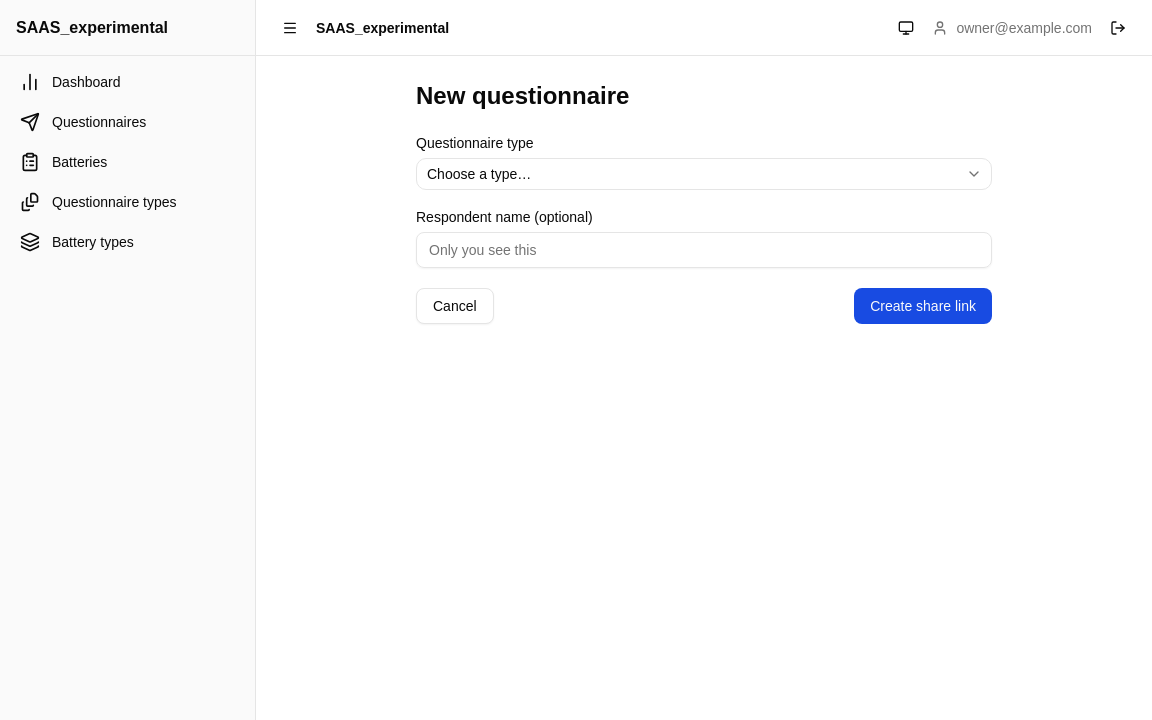
Test case: /questionnaires/new › requires a type
Click the button "Create share link" at (923, 306), box 854,288 -> 992,324
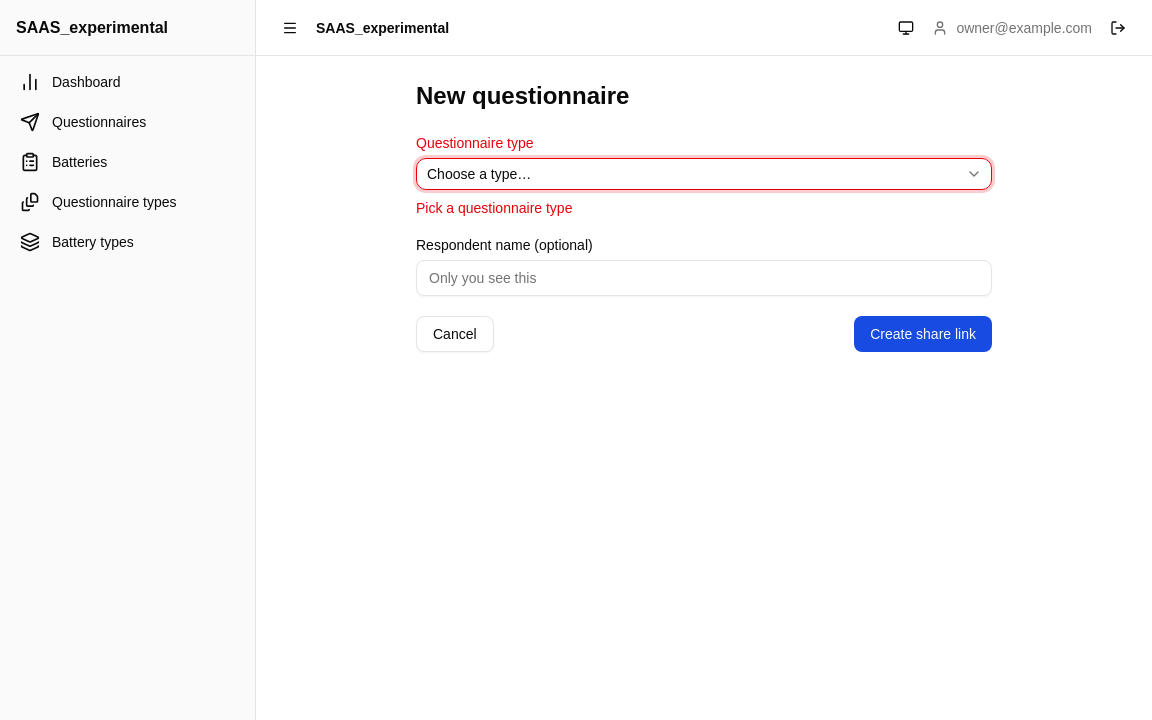
Expected: the text "Pick a questionnaire type" is shown, 416,200 -> 572,216
